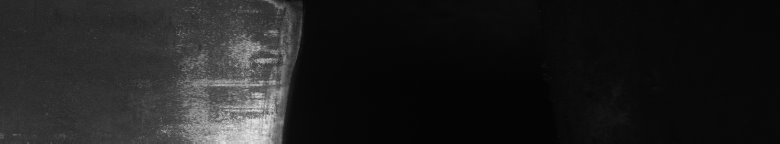kb: (161, 6, 272, 133)
